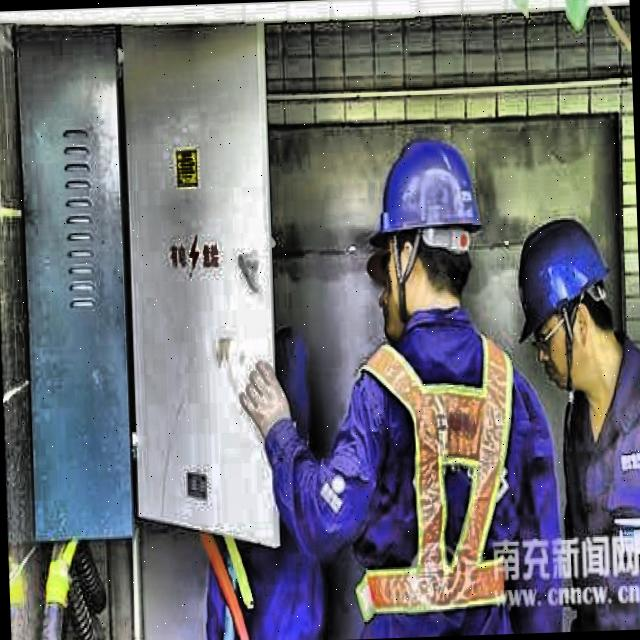helmet: (364, 114, 493, 330), (512, 200, 624, 394)
